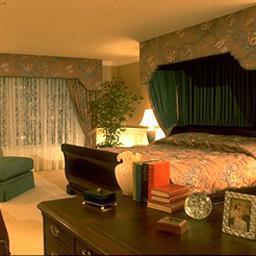Cama: (62, 130, 245, 192)
Ventana: (3, 59, 95, 140)
